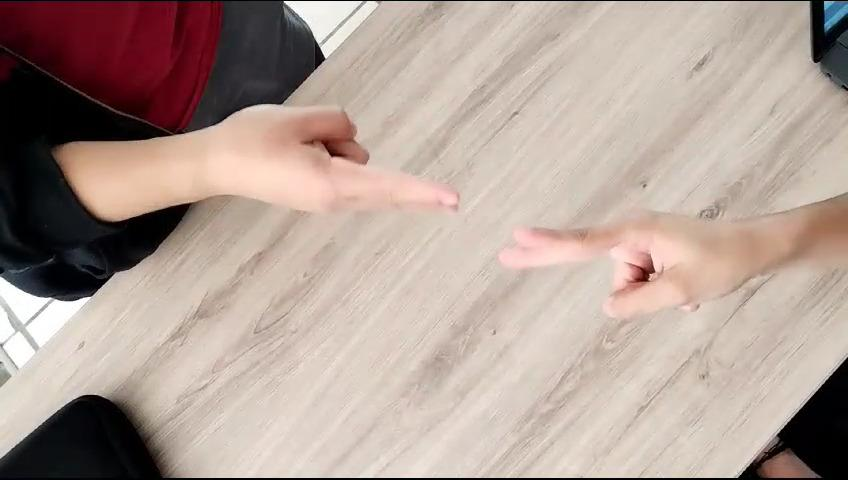Scissor: (201, 91, 498, 283), (491, 149, 756, 360)
